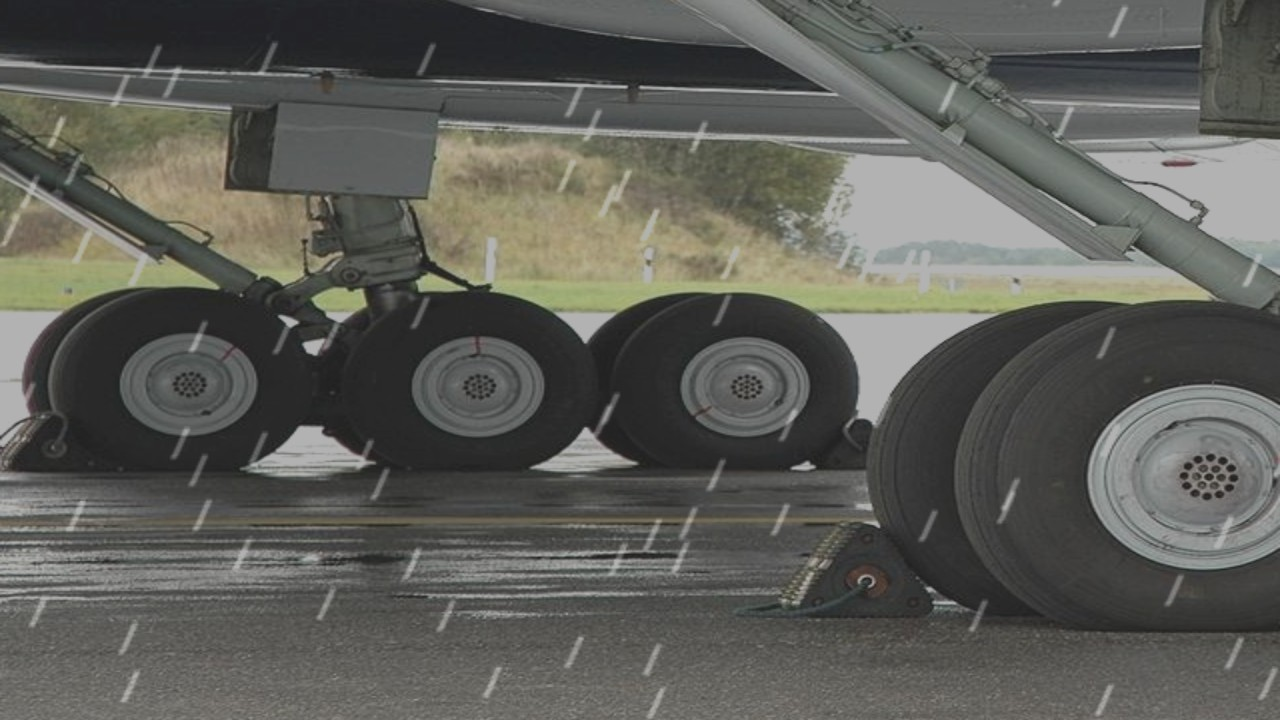chock: (763, 516, 943, 626), (0, 407, 100, 476), (812, 413, 883, 474)
wheel: (943, 297, 1280, 636), (54, 289, 316, 476), (336, 296, 592, 478), (609, 286, 858, 471)
